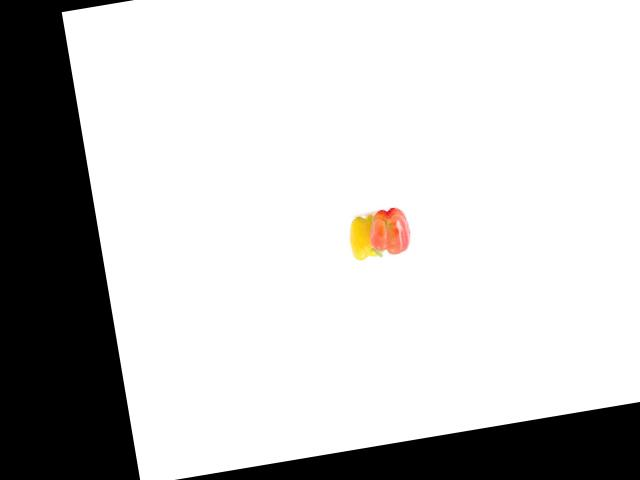bell_pepper: (344, 209, 388, 260)
